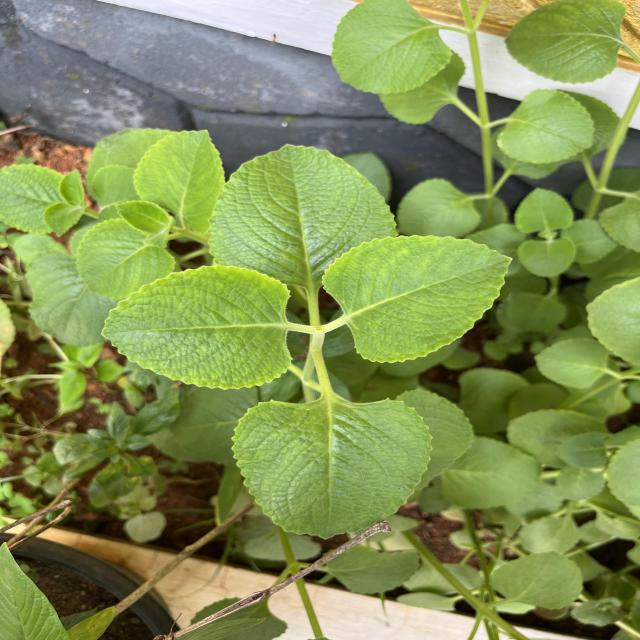Plectranthus barbatus: (230, 396, 434, 541), (320, 233, 514, 364), (206, 143, 400, 274), (100, 264, 295, 392), (330, 0, 453, 96), (504, 0, 626, 85), (132, 129, 226, 236), (76, 218, 177, 300), (495, 88, 595, 165), (439, 436, 541, 508), (532, 336, 610, 389), (514, 187, 574, 234), (517, 238, 576, 278)
